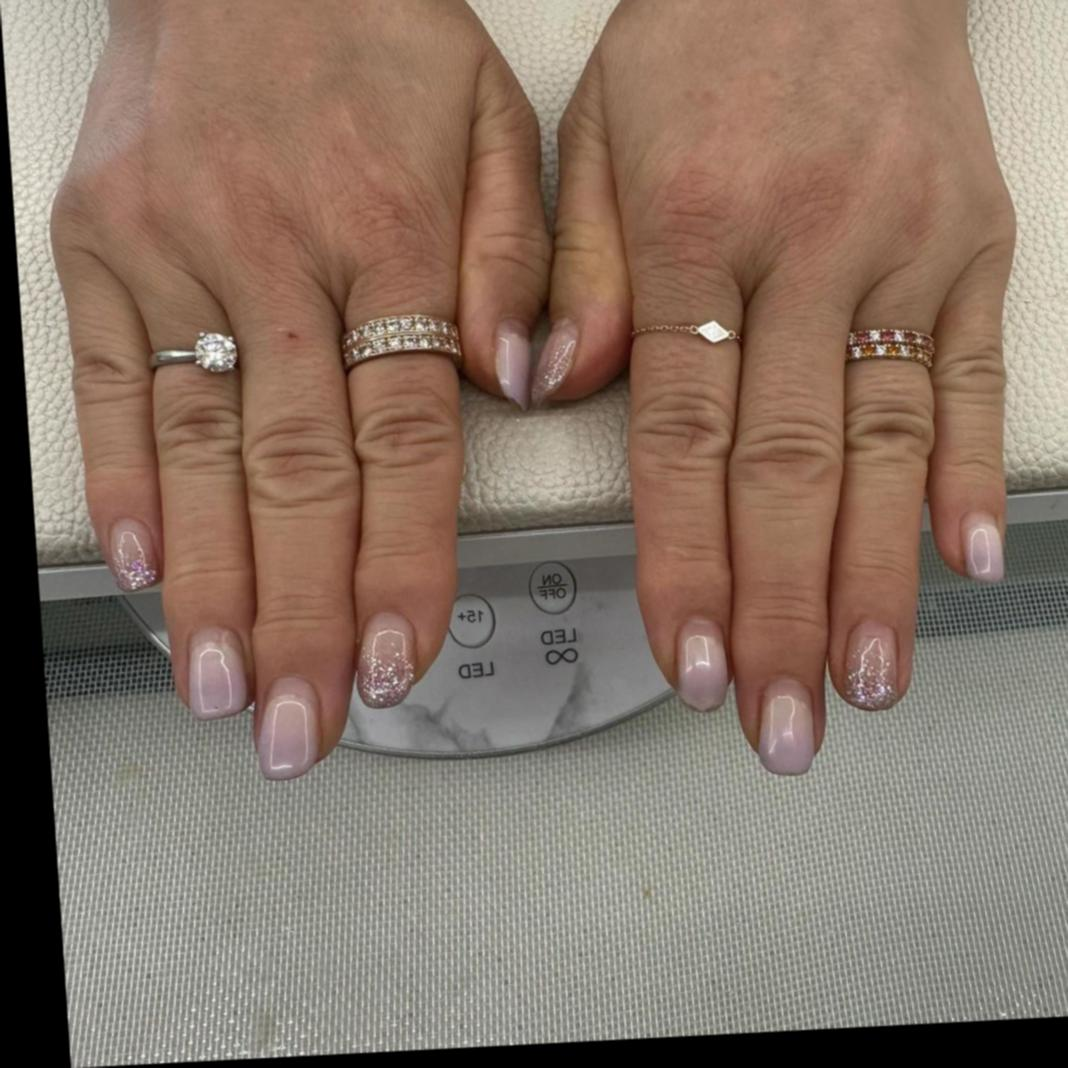nail: (252, 673, 327, 781), (352, 608, 422, 710), (754, 674, 820, 777), (184, 624, 252, 722), (839, 617, 904, 712), (672, 615, 734, 712), (526, 316, 586, 409), (107, 514, 163, 593), (492, 318, 537, 412), (959, 508, 1008, 584)
